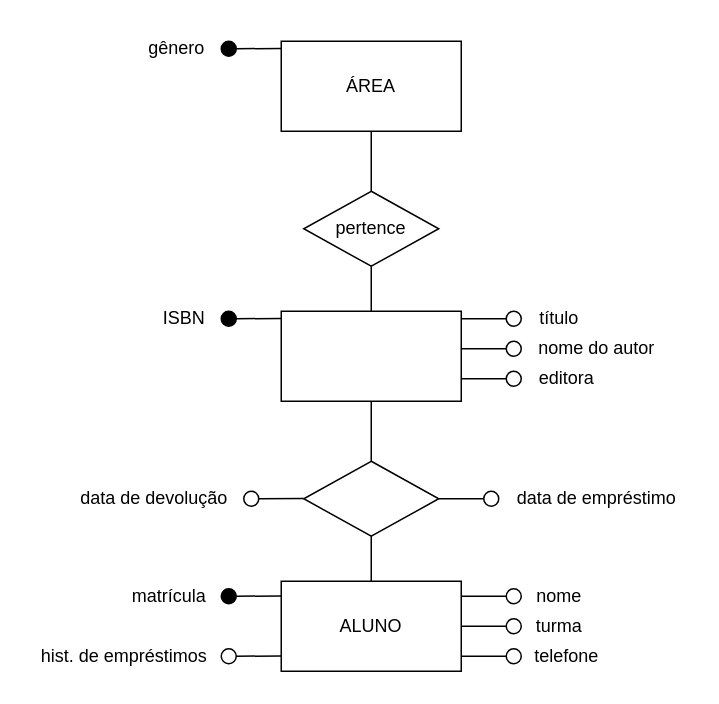
This 719x704 diagram has some shape labels left out. Each missing label, with the centre of its shape:
empresta: point 370,498
LIVRO: point 370,355
